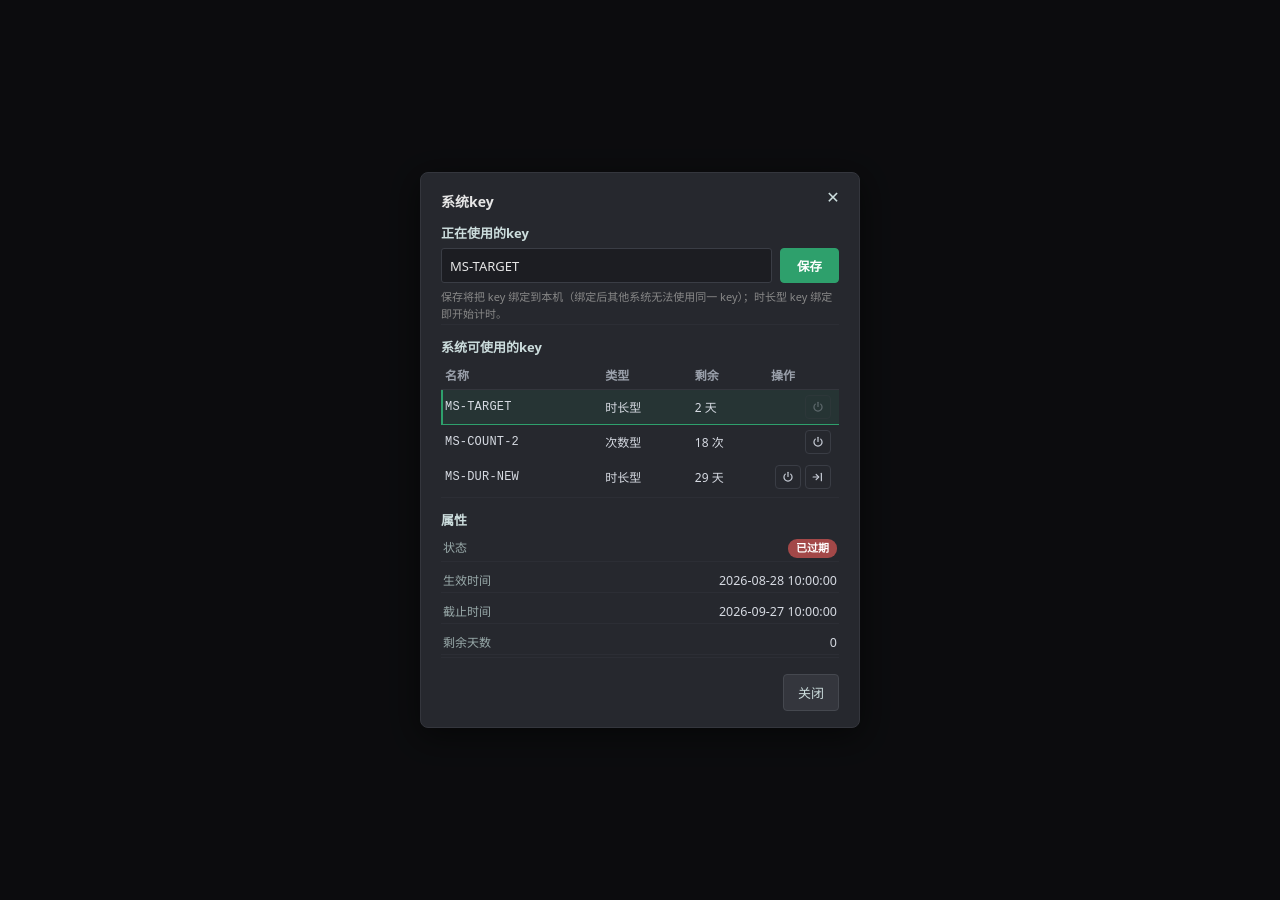
Scenario: KeyInfoModal ② 系统可使用的key 表格（US-011） › 点合并 → merge 单 source → 一行明细（无合计行）；target 新 info 上屏
The image size is (1280, 900).
Click the button with test id "key-info-merge-one": point(818, 477) [805,465,831,489]
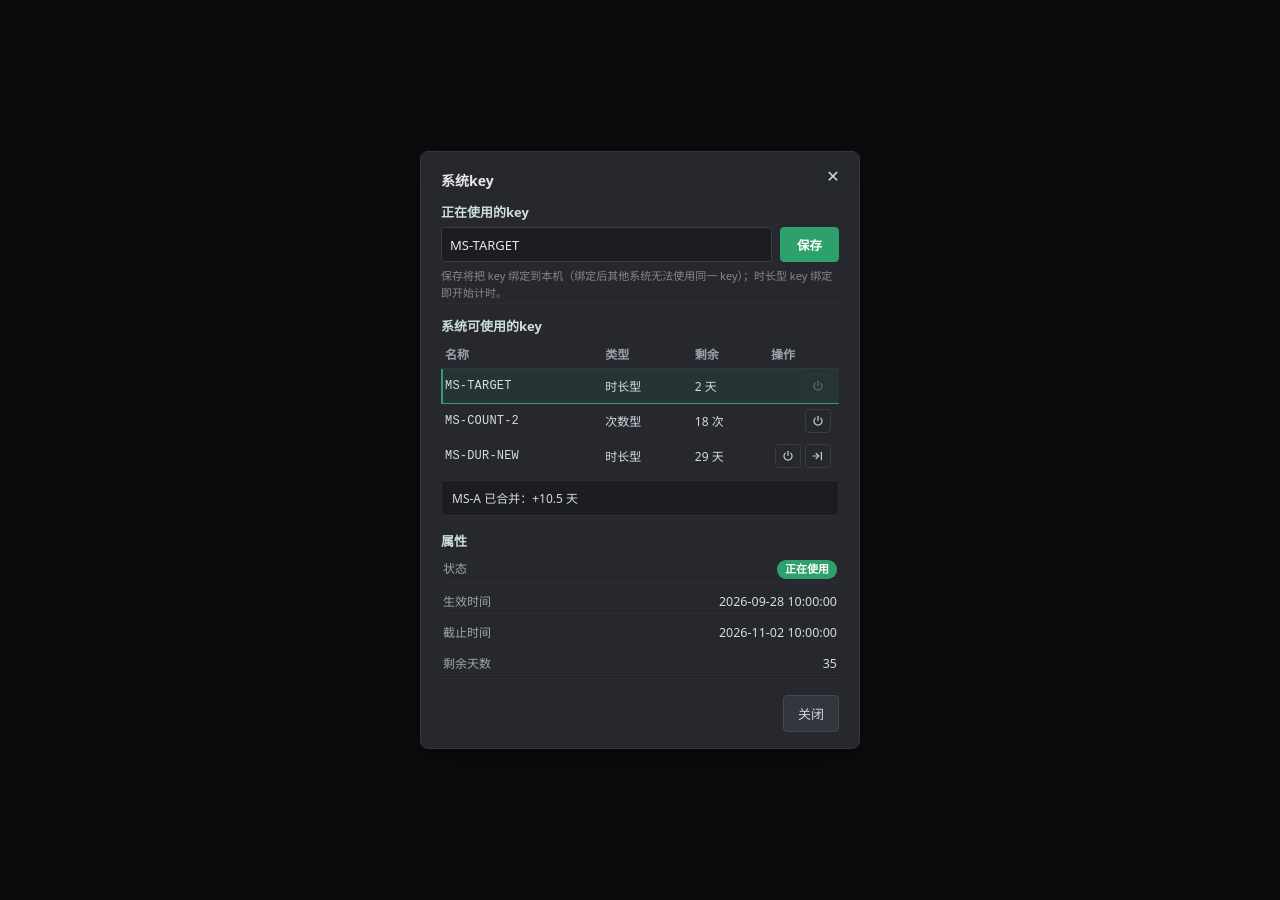
Expected: the number of elements with test id "key-info-merge-row" is 1, [452,490,578,507]
Expected: the text with test id "key-info-merge-row" reads "MS-A 已合并：+10.5 天", [452,490,578,507]
